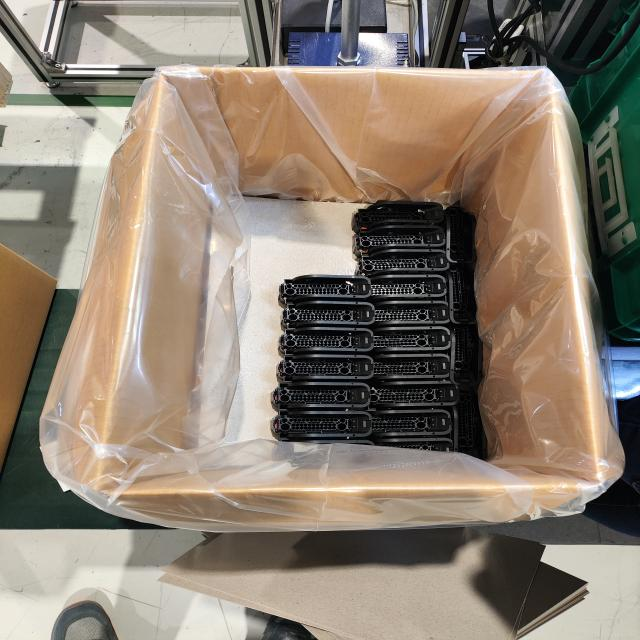P38: (352, 225, 445, 259), (351, 201, 445, 234), (447, 385, 487, 460), (367, 380, 460, 411), (270, 411, 372, 439), (276, 354, 374, 383), (270, 382, 371, 410), (278, 274, 372, 304), (362, 409, 452, 440), (361, 354, 450, 385), (281, 300, 375, 329), (357, 249, 450, 278), (364, 326, 451, 357), (278, 328, 375, 355), (437, 262, 478, 325), (364, 301, 450, 329), (362, 274, 446, 301), (449, 322, 484, 386), (444, 205, 477, 263), (367, 438, 454, 451), (280, 439, 376, 446)
